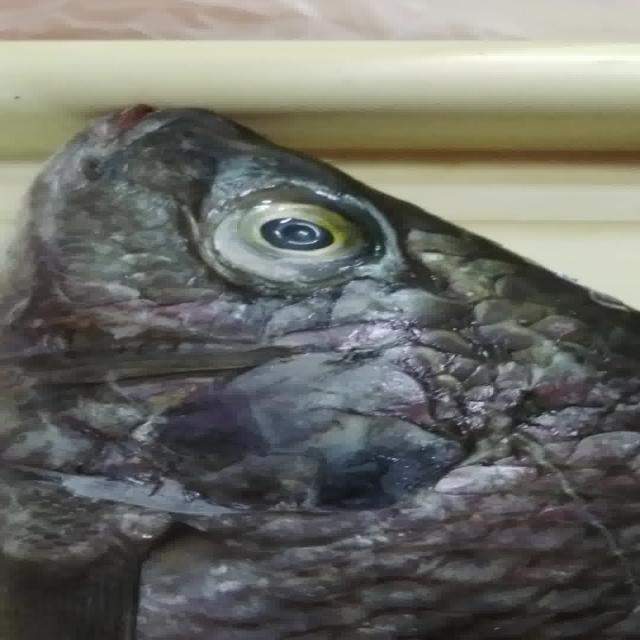Non-Fresh: (184, 159, 407, 311)
